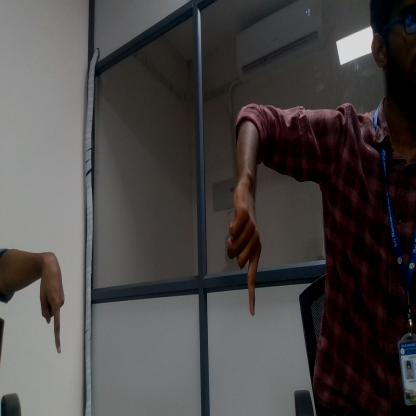Down: (226, 199, 262, 321), (36, 250, 70, 360)
